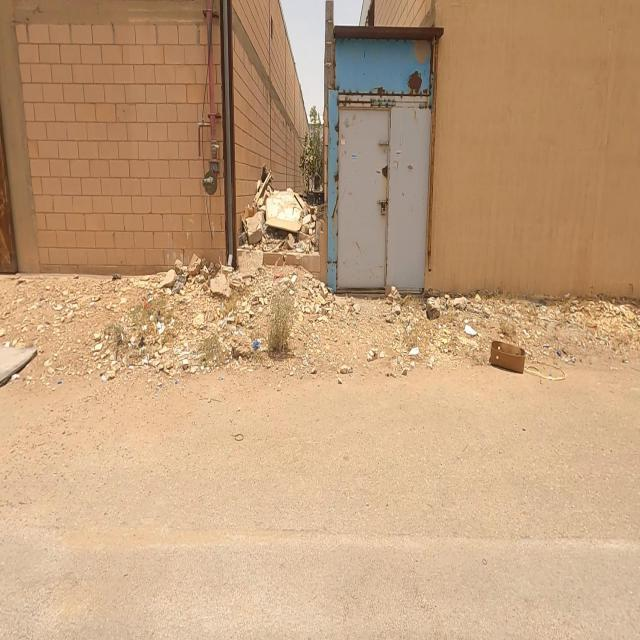debris: (187, 120, 364, 312), (446, 283, 564, 423), (366, 319, 454, 397), (218, 310, 280, 384)
